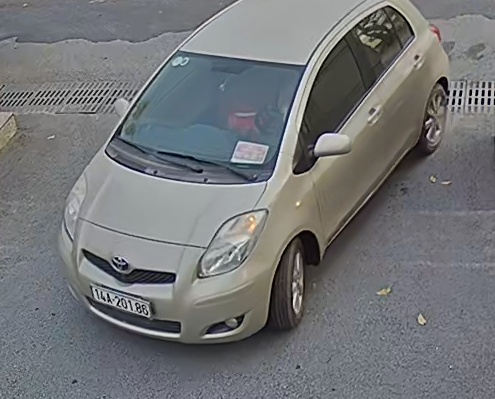vehicle plate: (86, 280, 150, 321)
